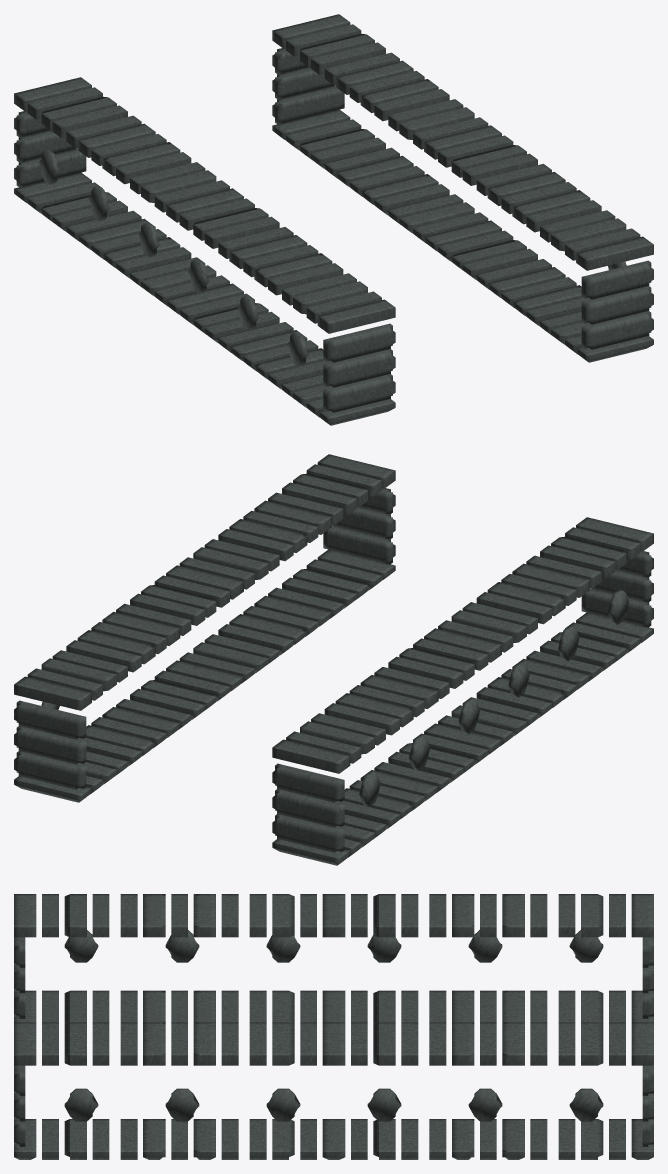
The picture shows the model from 3 angles, top to bottom: view 1: azimuth 30°, elevation 25°; view 2: azimuth 150°, elevation 25°; view 3: azimuth 270°, elevation 25°; orthographic projection.
Bounding box in the file's own units: 3.4 × 1.05 × 5.7.
1 material, 1 textured.
